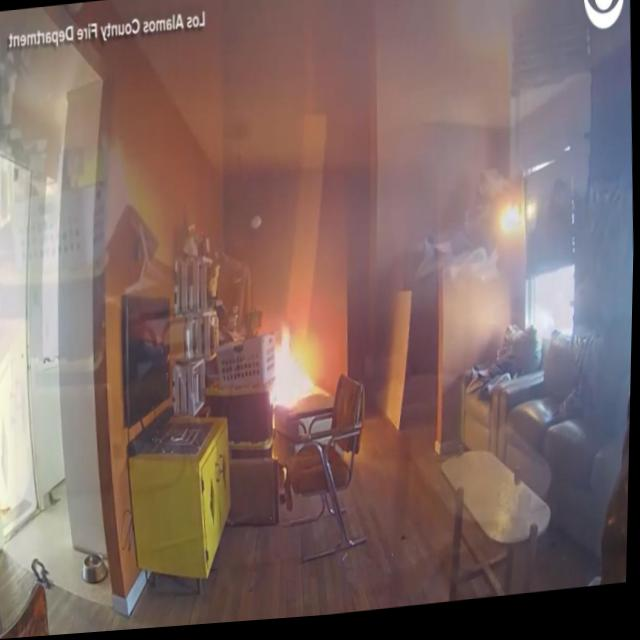fire: (265, 326, 325, 409)
